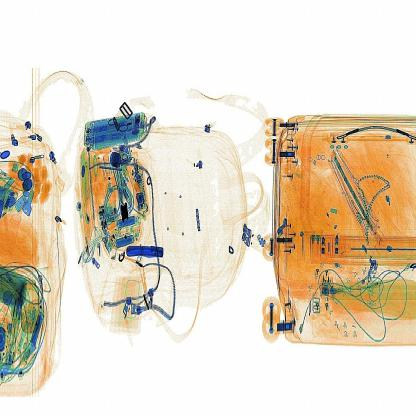knife: (122, 237, 167, 268)
